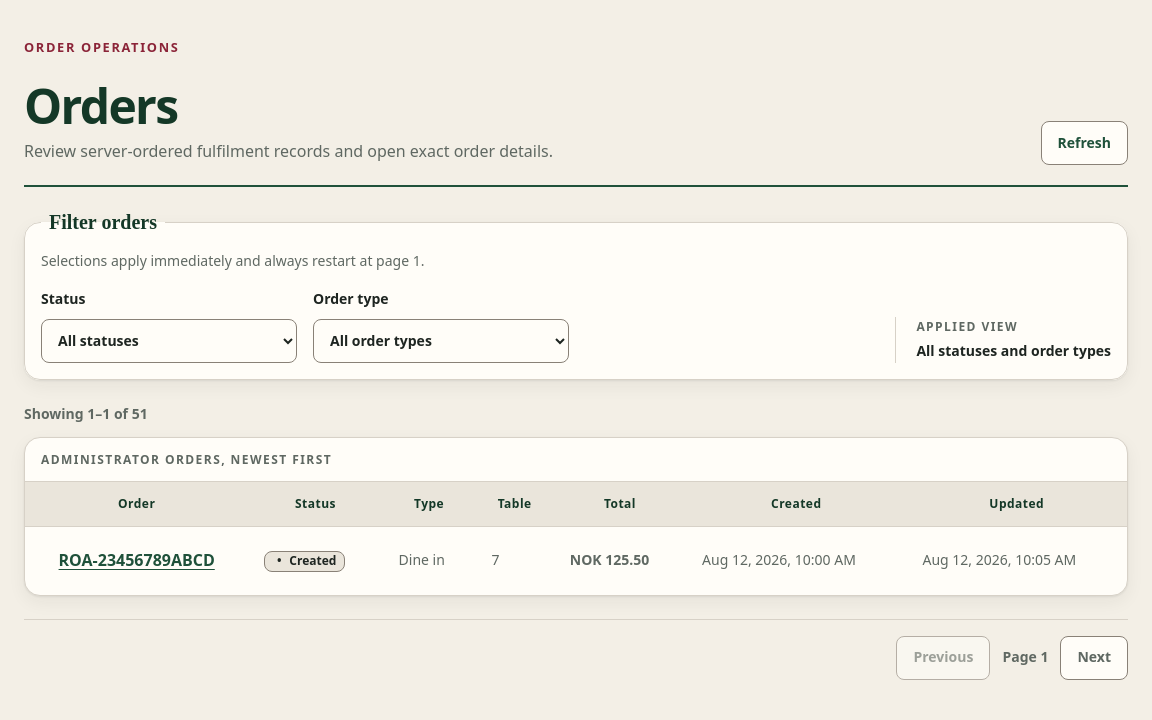
it: administrator orders list › distinguishes an empty later page and focuses its recovery heading
(page scrolled)
Expected: the text "Showing 1–1 of 51" is shown, top-left (24, 404), bottom-right (148, 423)
Click the button "Next" at (1094, 658), box top-left (1060, 636), bottom-right (1128, 680)
(page scrolled)
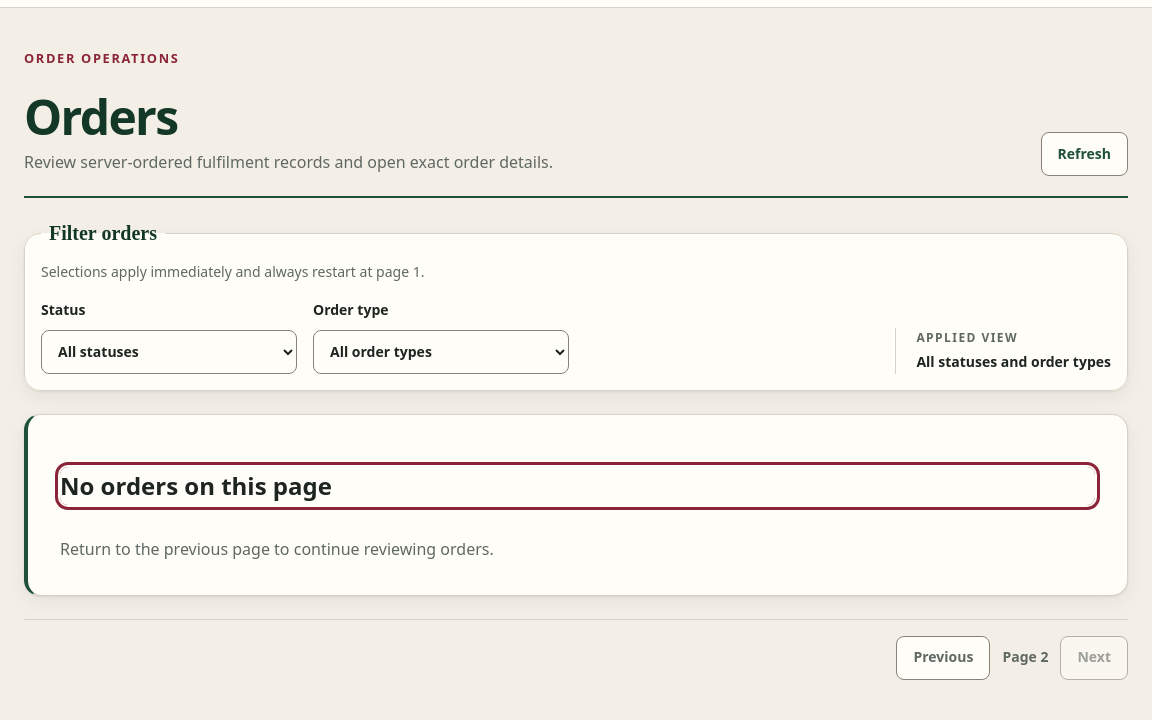
Expected: the button "Previous" is enabled, top-left (896, 636), bottom-right (990, 680)
Expected: the button "Next" is disabled, top-left (1060, 636), bottom-right (1128, 680)
